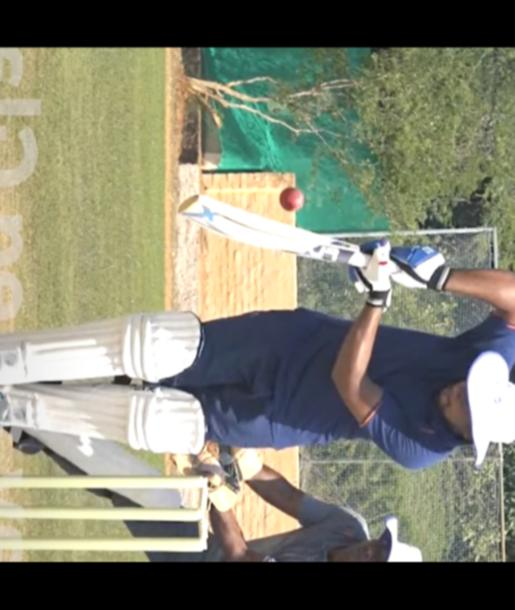batsman: (0, 155, 515, 509)
